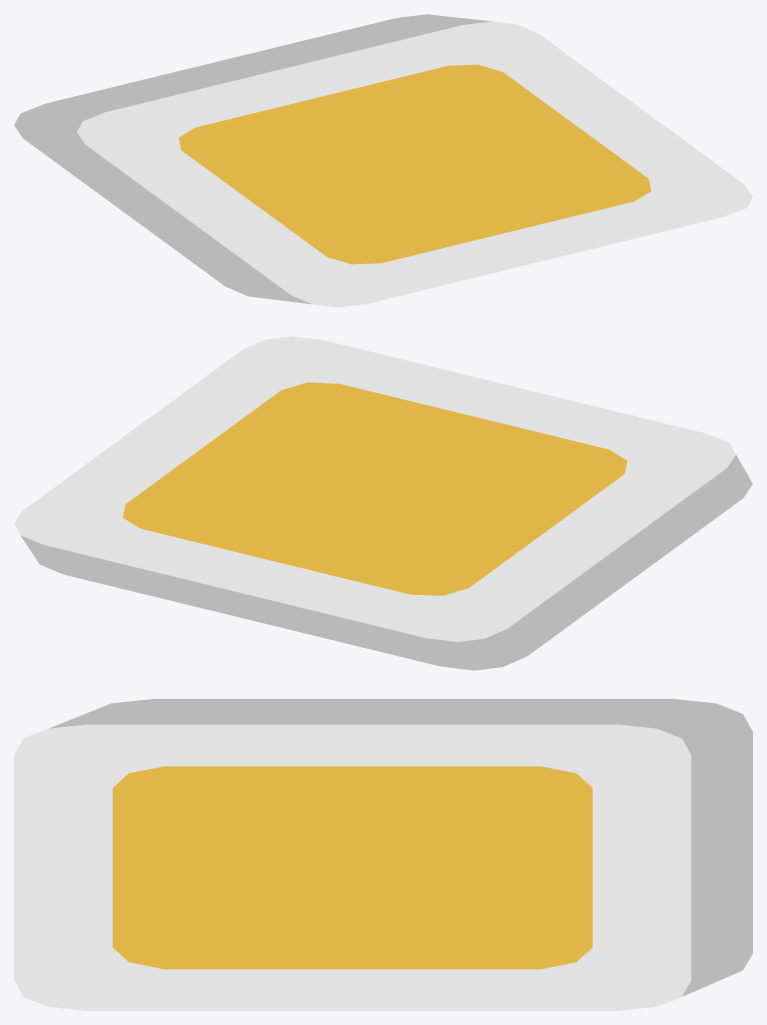
Rendered from Stage Point Normal.obj.
3 views of the same model, one above another, from view 1: azimuth 30°, elevation 25°; view 2: azimuth 150°, elevation 25°; view 3: azimuth 270°, elevation 25° (orthographic). The views are drawn at different scales.
Parts seen in each view (by area): view 1: point_stage_normal; view 2: point_stage_normal; view 3: point_stage_normal.
Boxes of the visible parts, x1,y1,x2,y2 form: point_stage_normal: (14,14,752,307); point_stage_normal: (14,336,752,670); point_stage_normal: (14,699,752,1010).
Bounding box in the file's own units: 3.81 × 0 × 3.82.
